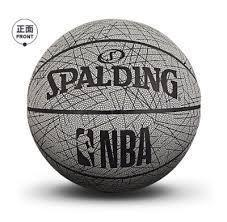ball: (27, 19, 201, 192)
